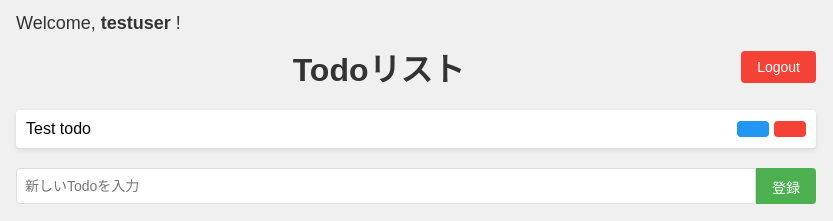
App Component › deletes a todo
Expected: the text "Test todo" is shown, [26,120,91,138]
Click the 3rd button at [790, 129], box [774,121,806,137]
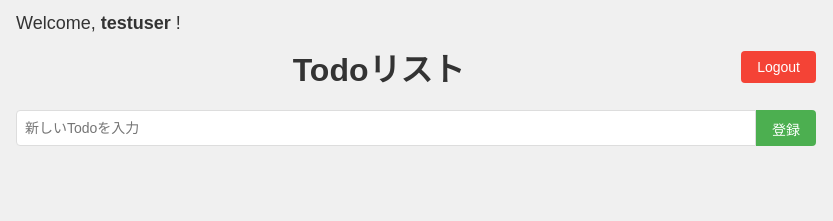
Expected: the text "Test todo" is gone
